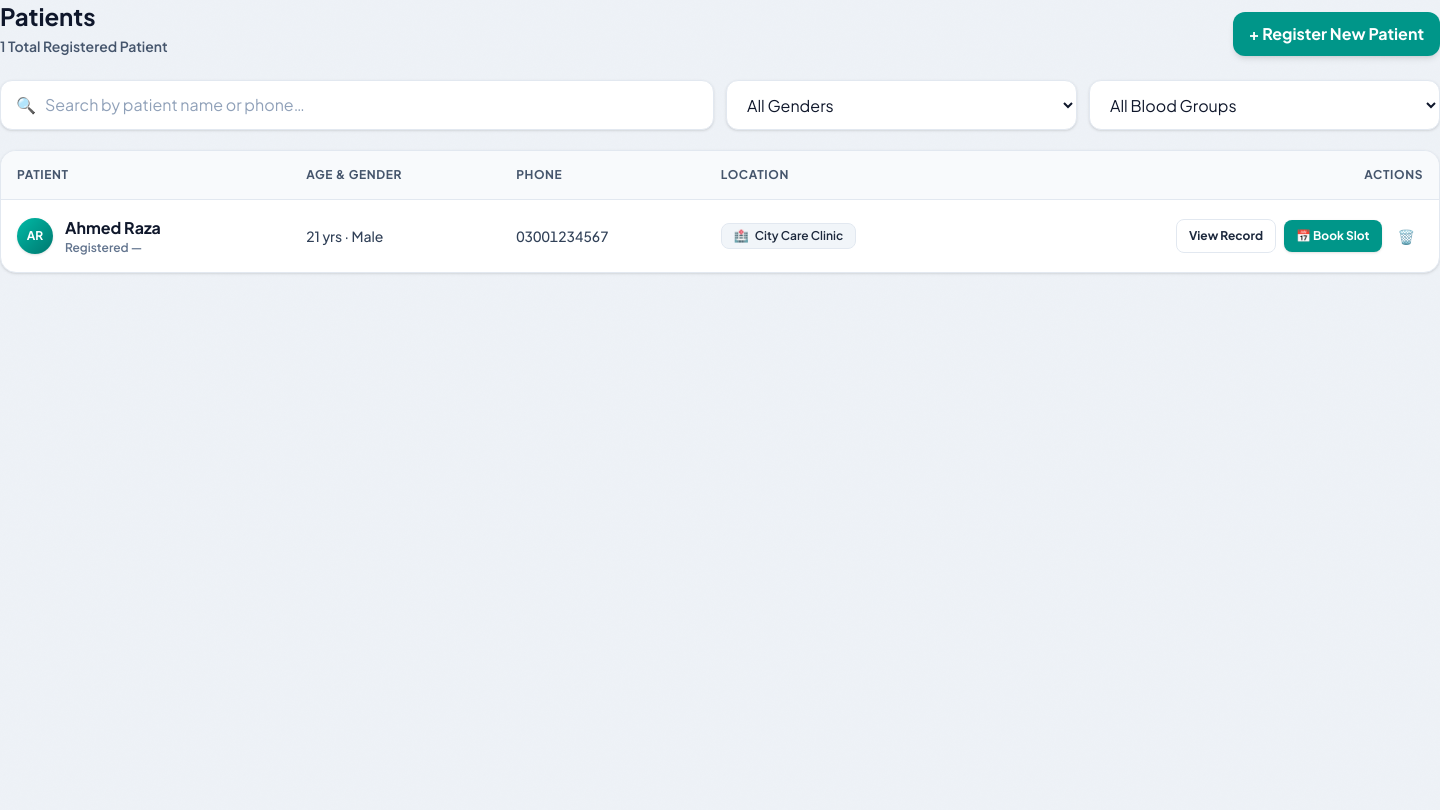
Test case: Patient booking modal (BookAppointmentModal) › requests aggregated availability from /api/slots
Click the button "📅 Book Slot". click: x=1333, y=236
box: [1284, 220, 1382, 252]
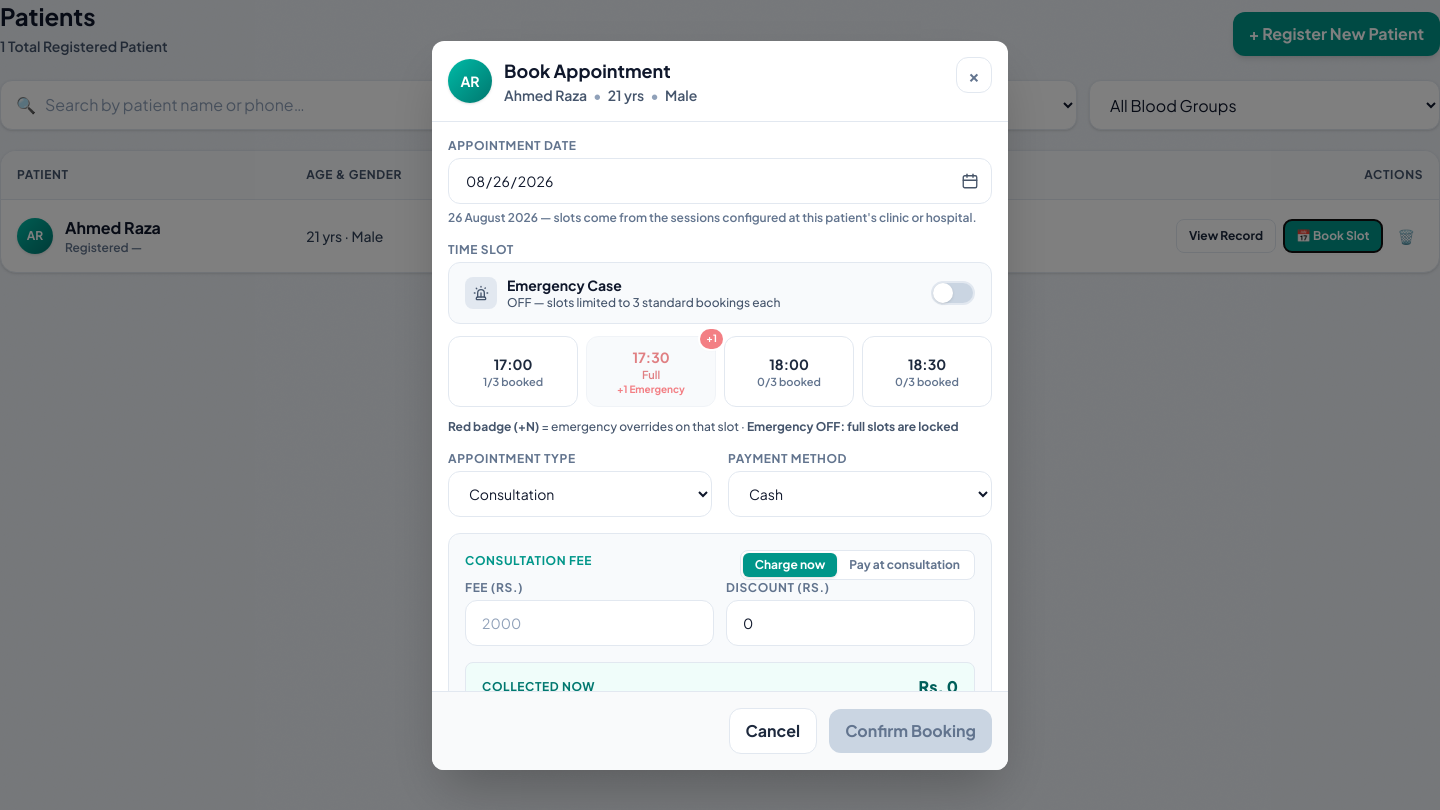
Check: the dialog named "Book appointment for Ahmed Raza" is shown, box [432, 40, 1008, 770]
